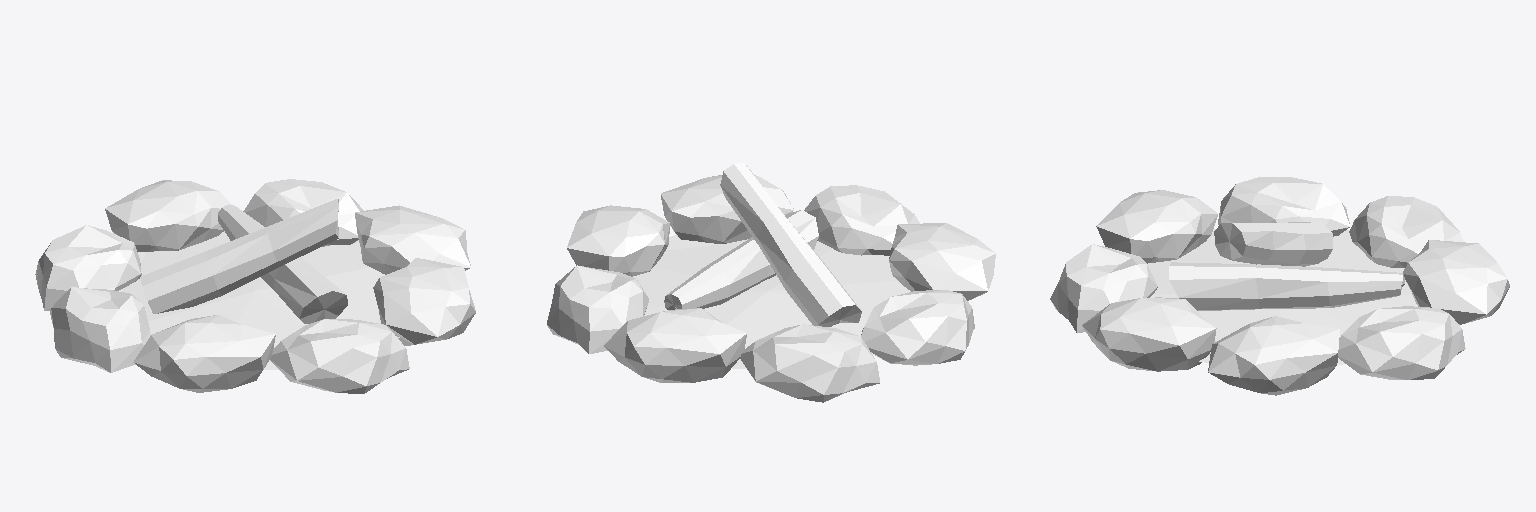
File: firepit2.obj
3 views of the same model, side by side, from view 1: azimuth 30°, elevation 25°; view 2: azimuth 150°, elevation 25°; view 3: azimuth 270°, elevation 25° (orthographic).
Parts seen in each view (by area): view 1: Icosphere_001_Icosphere_002_Mesh; view 2: Icosphere_001_Icosphere_002_Mesh; view 3: Icosphere_001_Icosphere_002_Mesh.
Part boxes in pixels (bbox=[...]): Icosphere_001_Icosphere_002_Mesh: bbox=[35, 179, 475, 393]; Icosphere_001_Icosphere_002_Mesh: bbox=[547, 163, 995, 402]; Icosphere_001_Icosphere_002_Mesh: bbox=[1050, 177, 1509, 395].
Size of the model in its own units: 4.6 by 1.34 by 4.6.